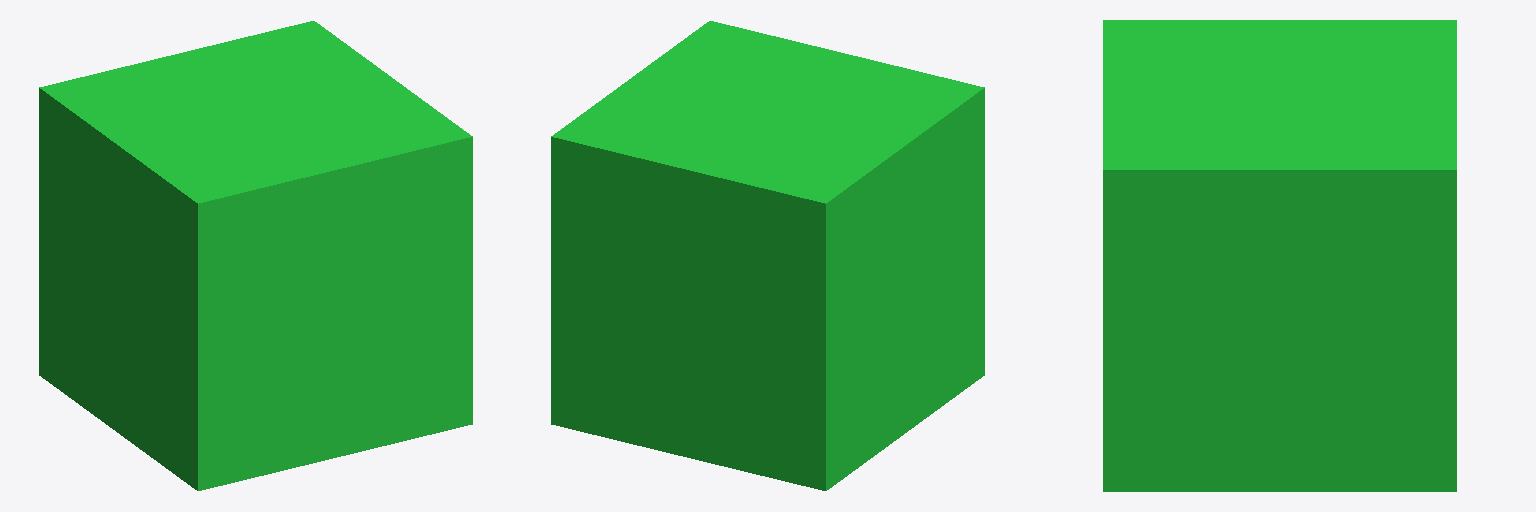
robot.urdf — box:
<?xml version='1.0' encoding='UTF-8'?>
<robot name="box">
  <link name="base_link">
    <inertial>
      <origin xyz="0.0 0.0 0.0" rpy="0.0 -0.0 0.0"/>
      <mass value="1.0"/>
      <inertia ixx="1.0" ixy="0.0" ixz="0.0" iyy="1.0" iyz="0.0" izz="1.0"/>
    </inertial>
    <visual name="base_link_visual">
      <geometry>
        <box size="0.635 0.635 0.635"/>
      </geometry>
      <origin xyz="0 0 0" rpy="0 0 0"/>
      <material name="object_color">
        <color rgba="0.2 0.85 0.3 1"/>
      </material>
    </visual>
    <collision name="base_link_collision">
      <geometry>
        <box size="0.635 0.635 0.635"/>
      </geometry>
      <origin xyz="0 0 0" rpy="0 0 0"/>
    </collision>
  </link>
</robot> 

--- What the picture shows (computed from the rendered views, not written in the file) ---
The picture shows the robot from 3 angles, left to right: view 1: azimuth 30°, elevation 25°; view 2: azimuth 150°, elevation 25°; view 3: azimuth 270°, elevation 25°; orthographic projection.
Robot: box — 1 links, 0 joints (none); root link base_link; default pose: every joint at zero.
Links seen in each view (by area): view 1: base_link; view 2: base_link; view 3: base_link.
Link boxes in pixels (x1,y1,x2,y2): base_link: (39,21,472,490); base_link: (551,21,984,490); base_link: (1103,20,1456,491).
Size in the robot's own frame: 0.635 by 0.635 by 0.635 metres.
Geometry: primitives only (box / cylinder / sphere), no mesh files.
